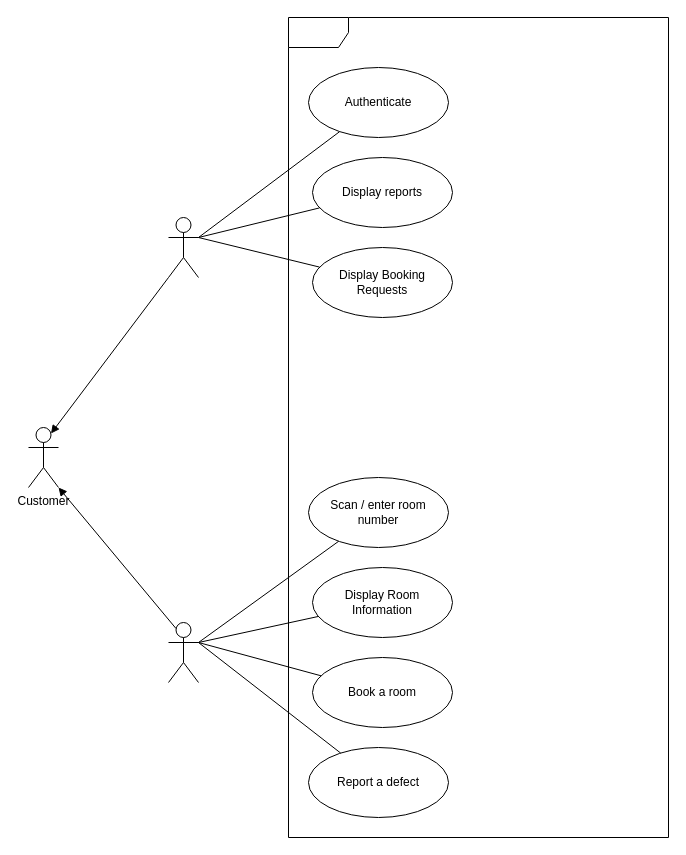
Some shapes in this 686 by 855 pixel diagram are drawn without their labels. The shapes that lost their labels are listed below. From the top down, each one's box as (x1, y1, x2, y2) in pixels, then its label:
(168, 216, 198, 278): Admin
(288, 16, 668, 838): Zelia System
(168, 622, 198, 682): Student/Teacher
